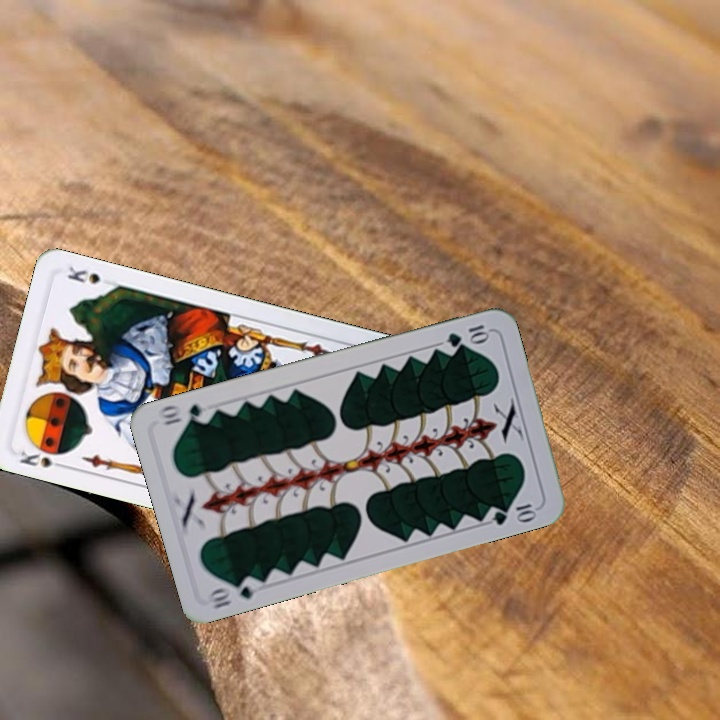G10: (206, 573, 264, 611), (443, 320, 492, 350)
SK: (15, 441, 70, 472)
